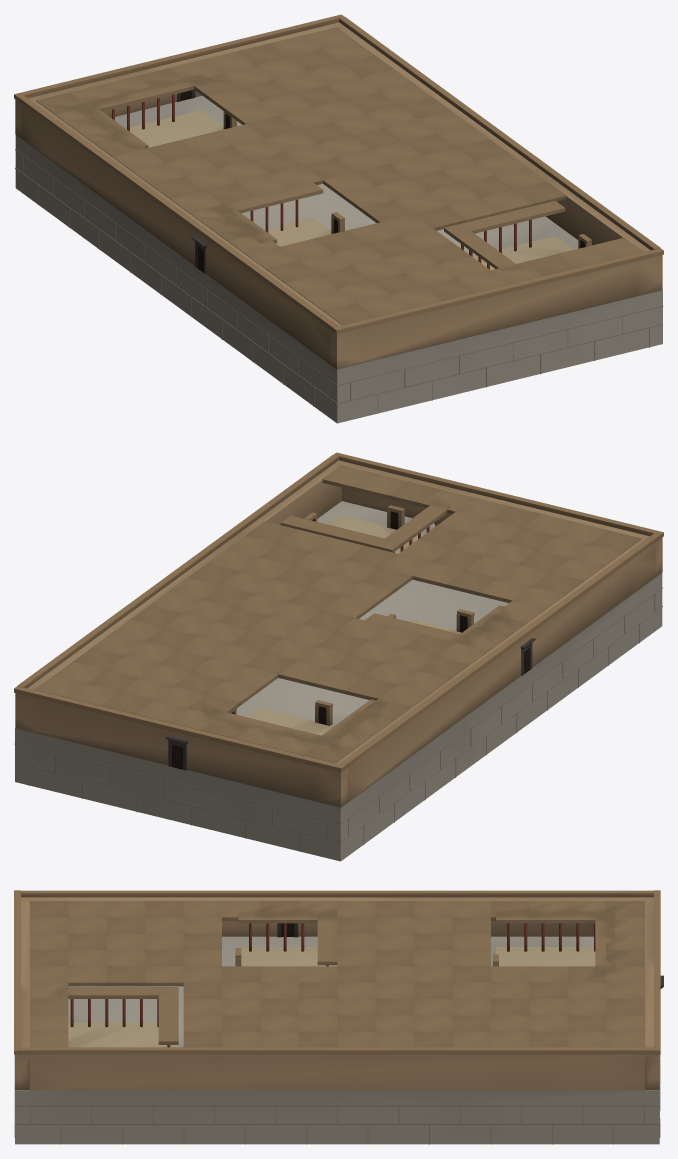
The model's file is treasury.glb.
3 views of the same model, one above another, from view 1: azimuth 30°, elevation 25°; view 2: azimuth 150°, elevation 25°; view 3: azimuth 270°, elevation 25° (orthographic).
Parts seen in each view (by area): view 1: p2_roof, p1_walls, p0_terrace; view 2: p2_roof, p1_walls, p0_terrace; view 3: p2_roof, p1_walls, p0_terrace.
Part boxes in pixels (left/top/right/bottom): p2_roof: left=36, top=27, right=643, bottom=325; p1_walls: left=14, top=14, right=663, bottom=369; p0_terrace: left=15, top=95, right=663, bottom=423; p2_roof: left=34, top=465, right=641, bottom=763; p1_walls: left=14, top=452, right=663, bottom=807; p0_terrace: left=14, top=501, right=662, bottom=861; p2_roof: left=30, top=901, right=644, bottom=1047; p1_walls: left=14, top=890, right=663, bottom=1090; p0_terrace: left=14, top=936, right=660, bottom=1144.
Bounding box in the file's own units: 77.05 × 21.01 × 131.
